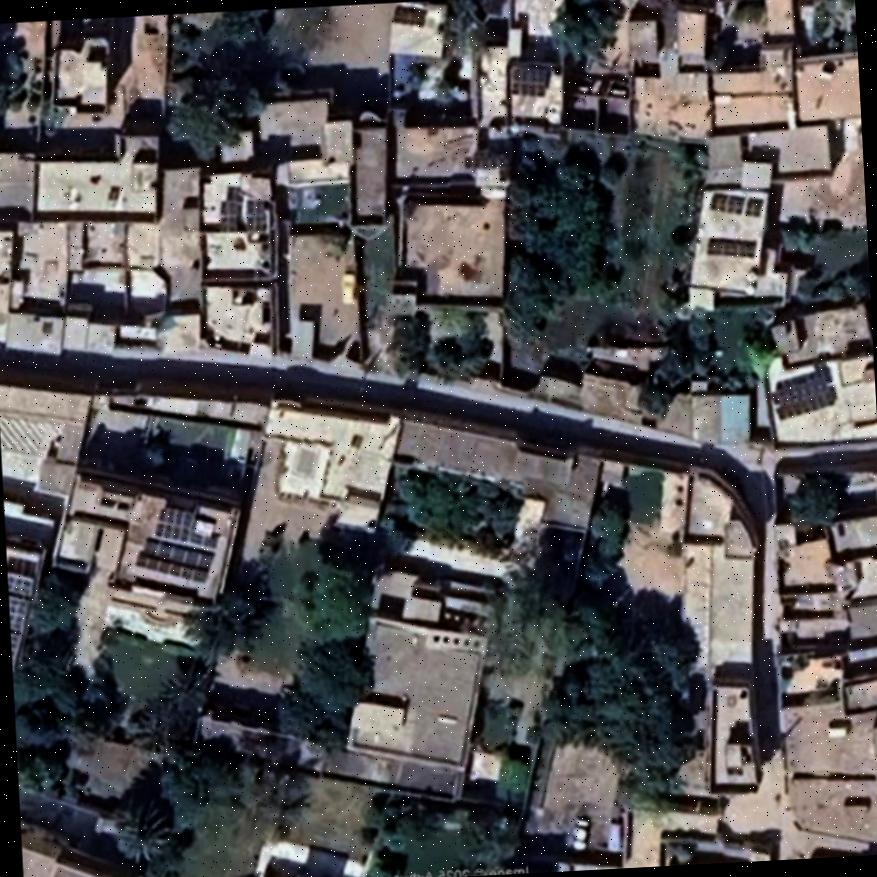Solarpanel: (143, 539, 212, 566), (770, 373, 827, 405), (777, 390, 833, 420), (153, 507, 194, 538), (512, 63, 546, 95), (706, 238, 757, 255), (242, 201, 265, 231), (219, 199, 238, 231)
